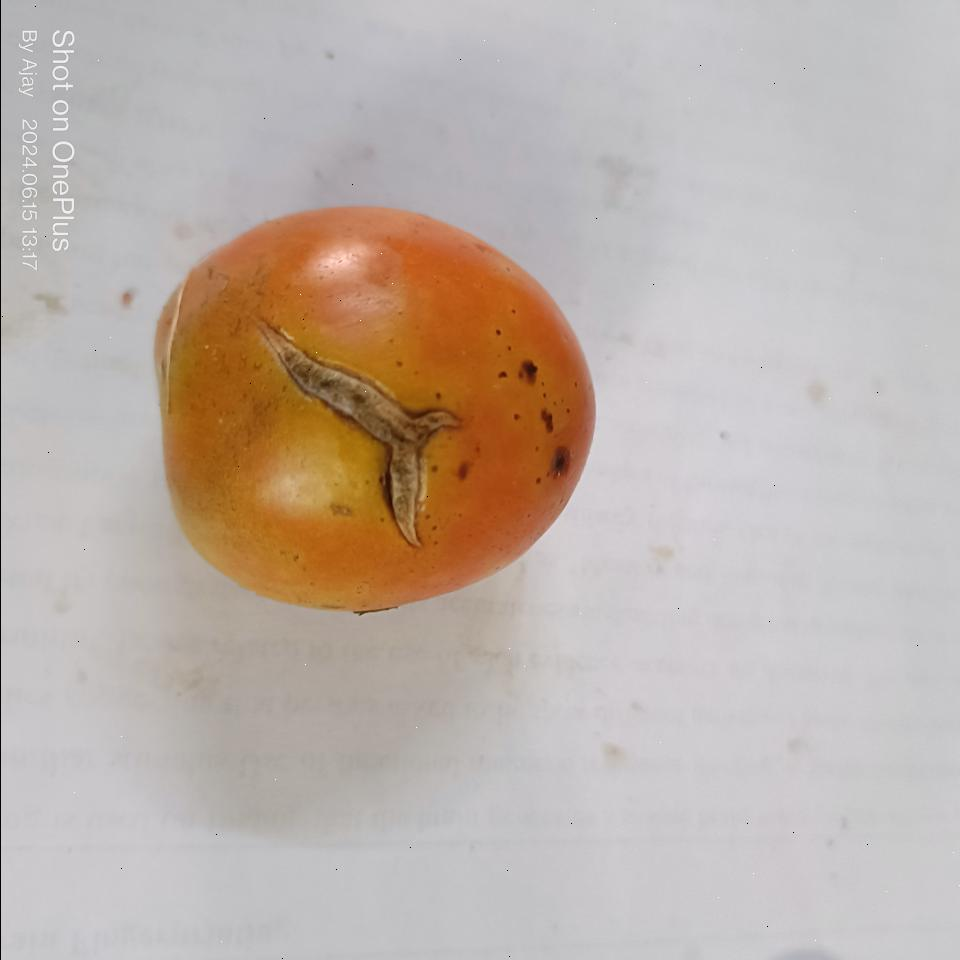Bacterial_Spot: (261, 286, 455, 544), (530, 404, 580, 482), (515, 348, 550, 393)
